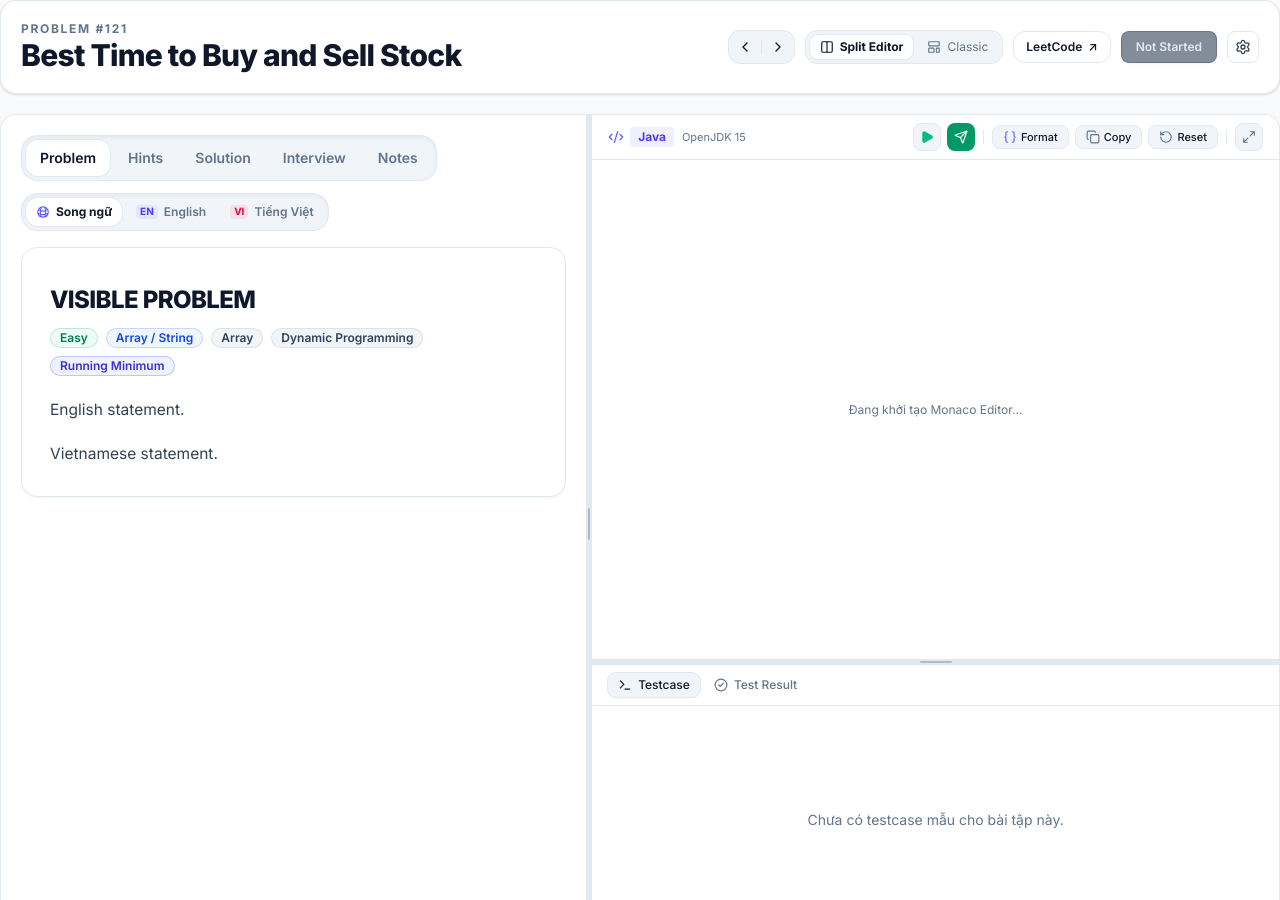
Test: PracticeView › shows solution markdown and Java source immediately when selected
Expected: the heading "VISIBLE PROBLEM" is shown, [50, 285, 255, 314]
Click the tab "Solution": (223, 158) [181, 140, 265, 176]
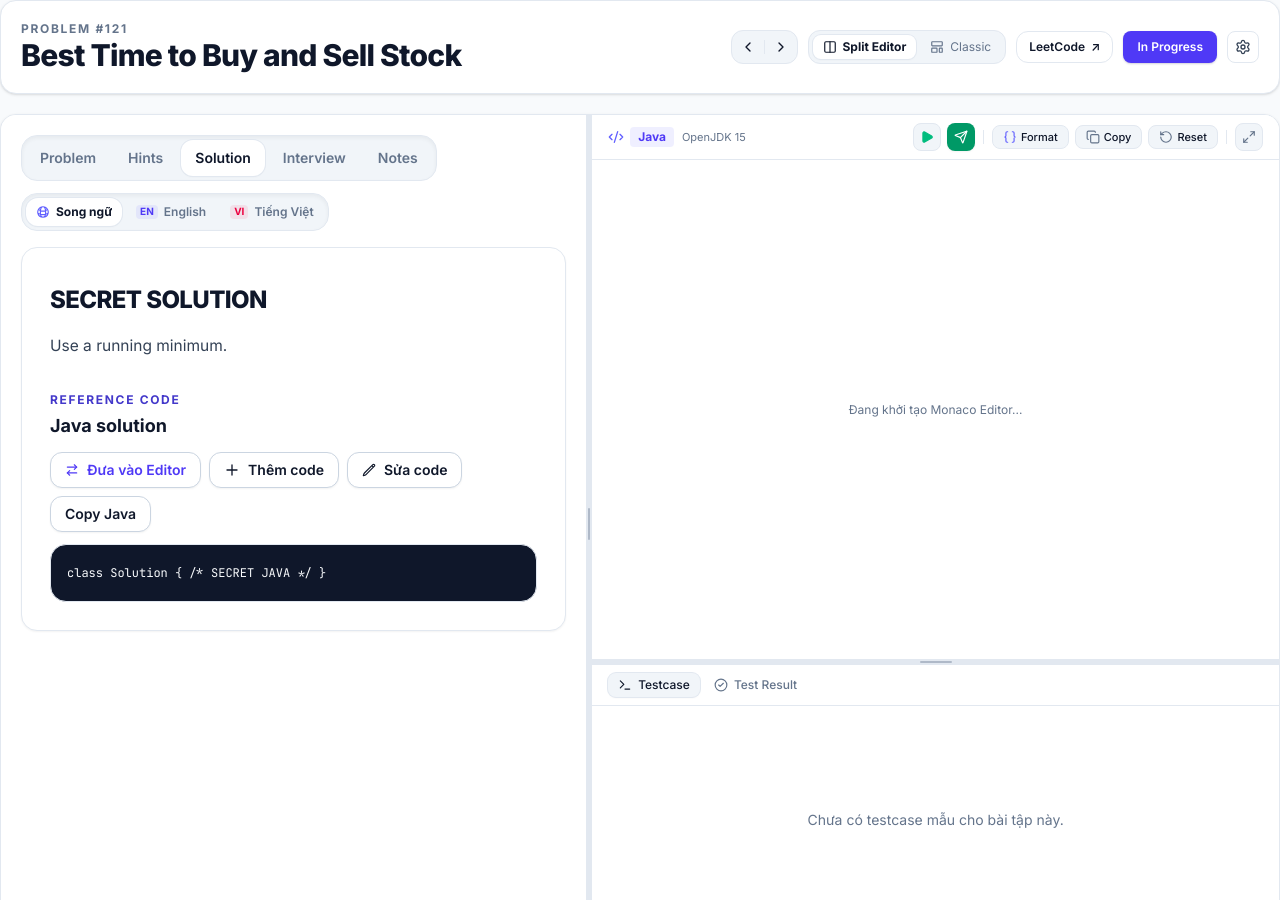
Expected: the heading "SECRET SOLUTION" is shown, [50, 285, 267, 314]
Expected: the text "class Solution { /* SECRET JAVA */ }" is shown, [67, 565, 326, 581]
Expected: the heading "Java solution" is shown, [50, 412, 167, 440]
